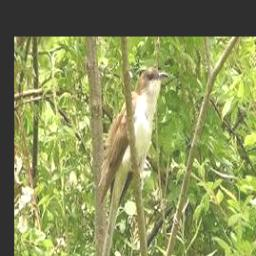Cuckoo: (98, 66, 169, 256)
